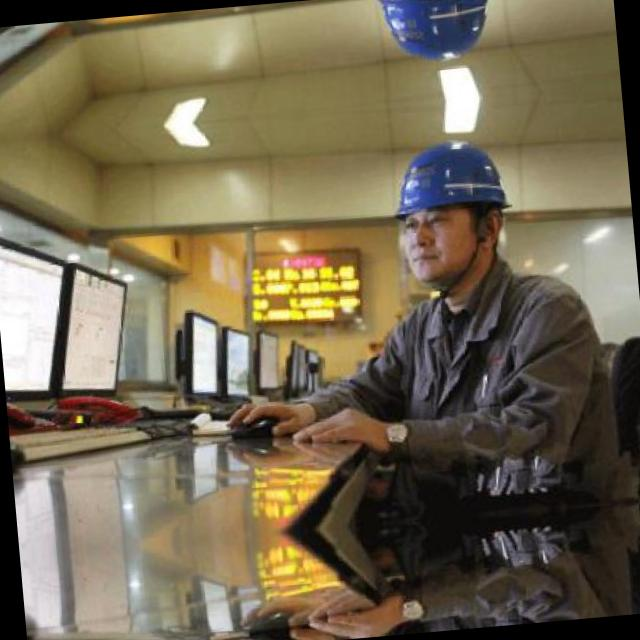helmet: (366, 118, 530, 300), (353, 0, 513, 83)
